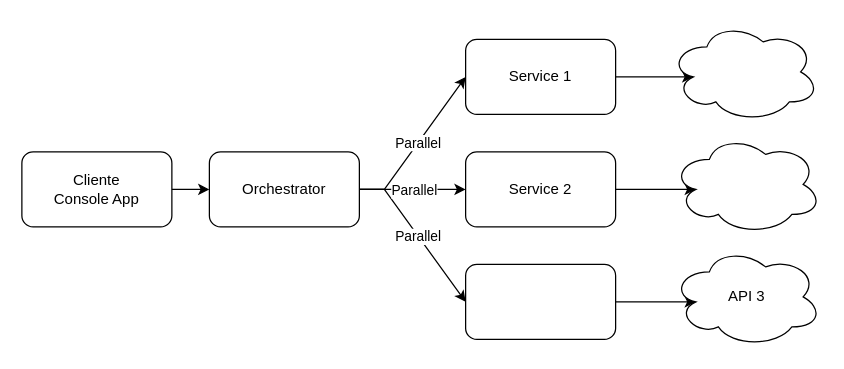
Some shapes in this 844 by 369 pixel diagram are drawn without their labels. The centre of each missing label's shape, as x and y in pixels:
"API 1" belongs at (743,71).
"API 2" belongs at (746,183).
"Service 3" belongs at (540,301).
